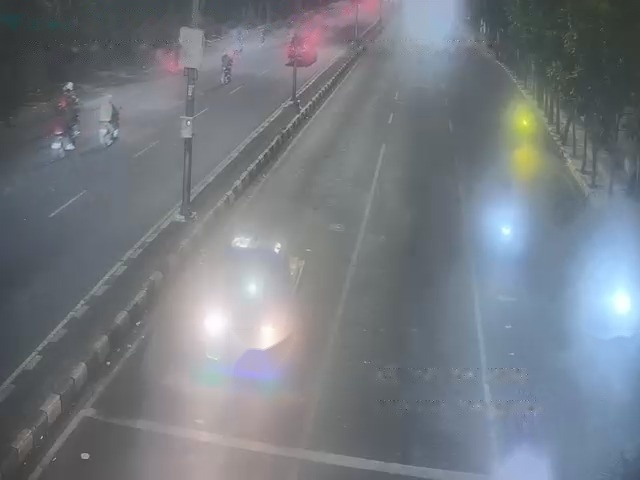Mobil: (215, 236, 291, 347)
Motor: (493, 212, 518, 251), (96, 125, 115, 147), (218, 55, 232, 84), (52, 138, 77, 154)
